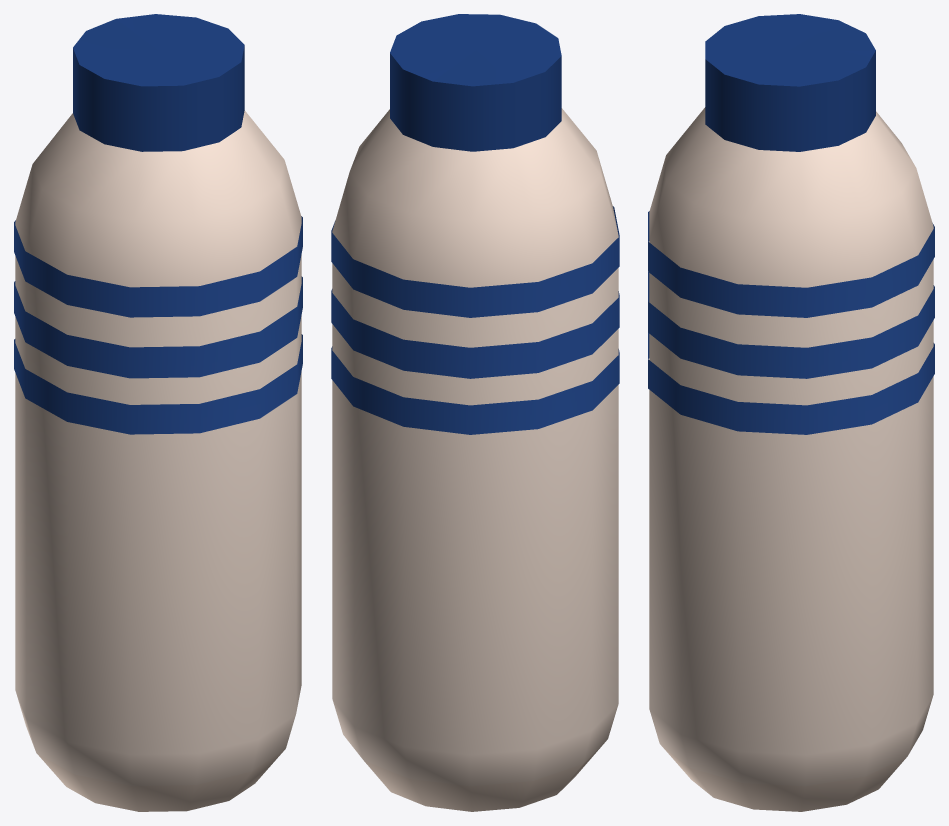
Rendered from Milk.fbx.
3 renders of one model, left to right at view 1: azimuth 30°, elevation 25°; view 2: azimuth 150°, elevation 25°; view 3: azimuth 270°, elevation 25°, orthographic.
Parts seen in each view (by area): view 1: Milk; view 2: Milk; view 3: Milk.
Part boxes in pixels (box(x1,y1,x2,y2)): Milk: box(14, 14, 302, 811); Milk: box(331, 14, 619, 811); Milk: box(648, 14, 934, 811).
Size of the model in its own units: 4.8 by 13.2 by 4.77.
